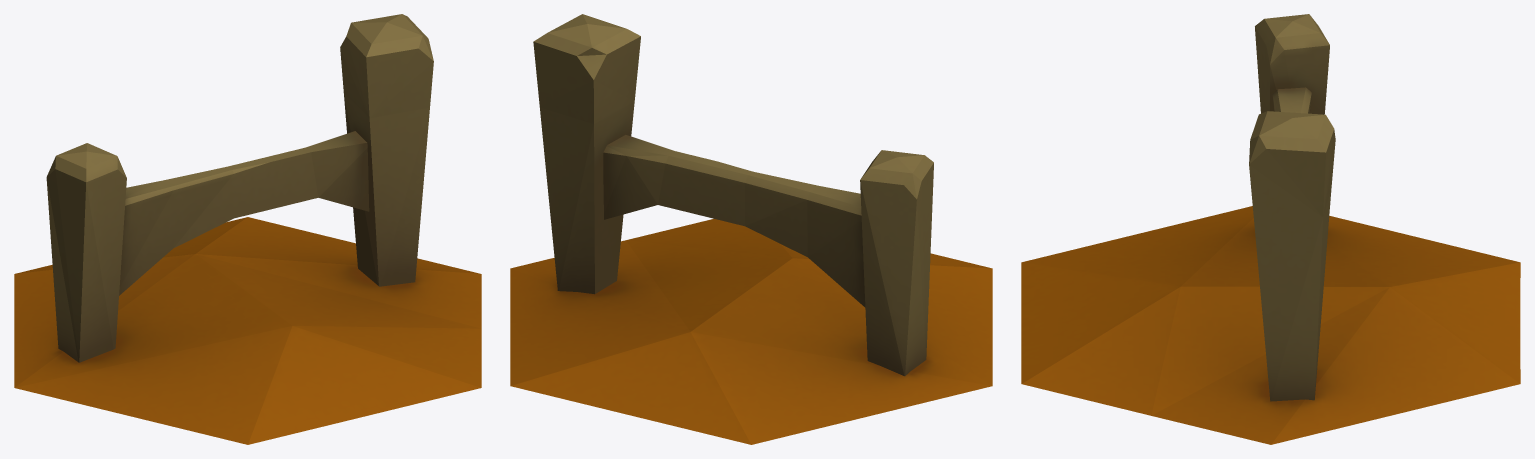
The model's file is xiaozhalan.FBX.
The picture shows the model from 3 angles, left to right: view 1: azimuth 30°, elevation 25°; view 2: azimuth 150°, elevation 25°; view 3: azimuth 270°, elevation 25°; orthographic projection. The views are drawn at different scales.
Parts seen in each view (by area): view 1: OBJ_Barrier_02; view 2: OBJ_Barrier_02; view 3: OBJ_Barrier_02.
Part boxes in pixels (left/top/right/bottom): OBJ_Barrier_02: left=14, top=14, right=481, bottom=444; OBJ_Barrier_02: left=510, top=14, right=992, bottom=444; OBJ_Barrier_02: left=1021, top=14, right=1520, bottom=444.
Bounding box in the file's own units: 3.06 × 1.66 × 2.65.
